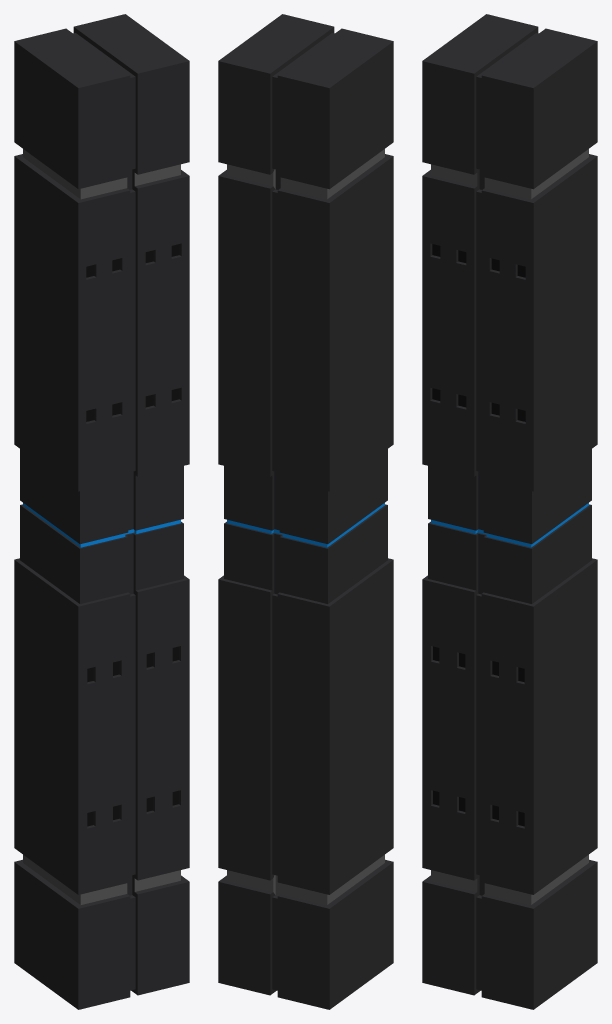
File: Floor.fbx
3 renders of one model, left to right at view 1: azimuth 30°, elevation 25°; view 2: azimuth 150°, elevation 25°; view 3: azimuth 330°, elevation 25°, orthographic.
Visible parts, largest first — view 1: Floor; view 2: Floor; view 3: Floor.
Part boxes in pixels (left/top/right/bottom): Floor: left=14, top=14, right=189, bottom=1009; Floor: left=218, top=14, right=393, bottom=1009; Floor: left=422, top=14, right=597, bottom=1009.
Bounding box in the file's own units: 25.29 × 200 × 25.29.
